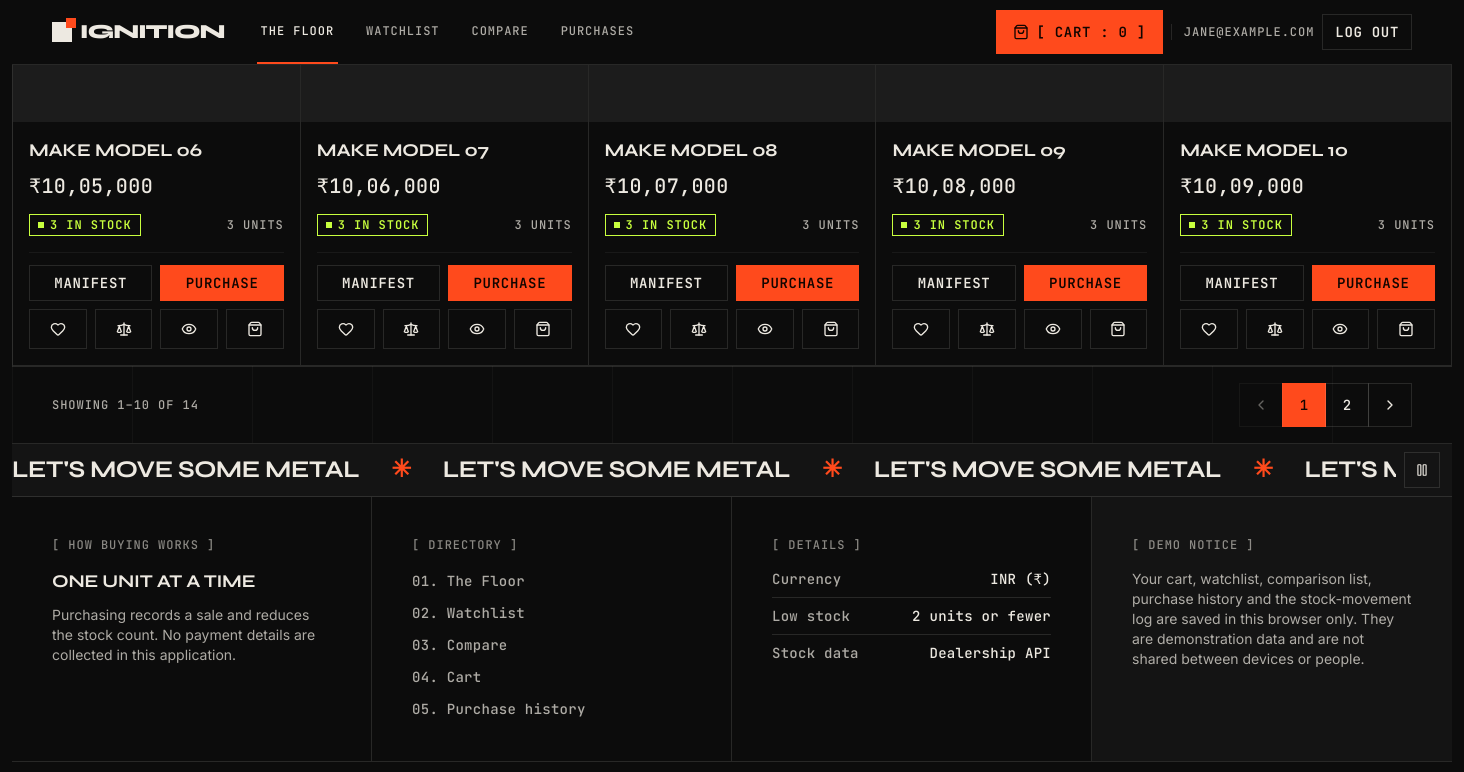
it: The Floor, pagination › shows ten per page with an accurate range and moves between pages
(page scrolled)
Expected: the text "Showing 1–10 of 14" is shown, [52,397,199,413]
Step 1. Click the button named "Page 2" → (1347, 405), box [1325,383,1369,427]
(page scrolled)
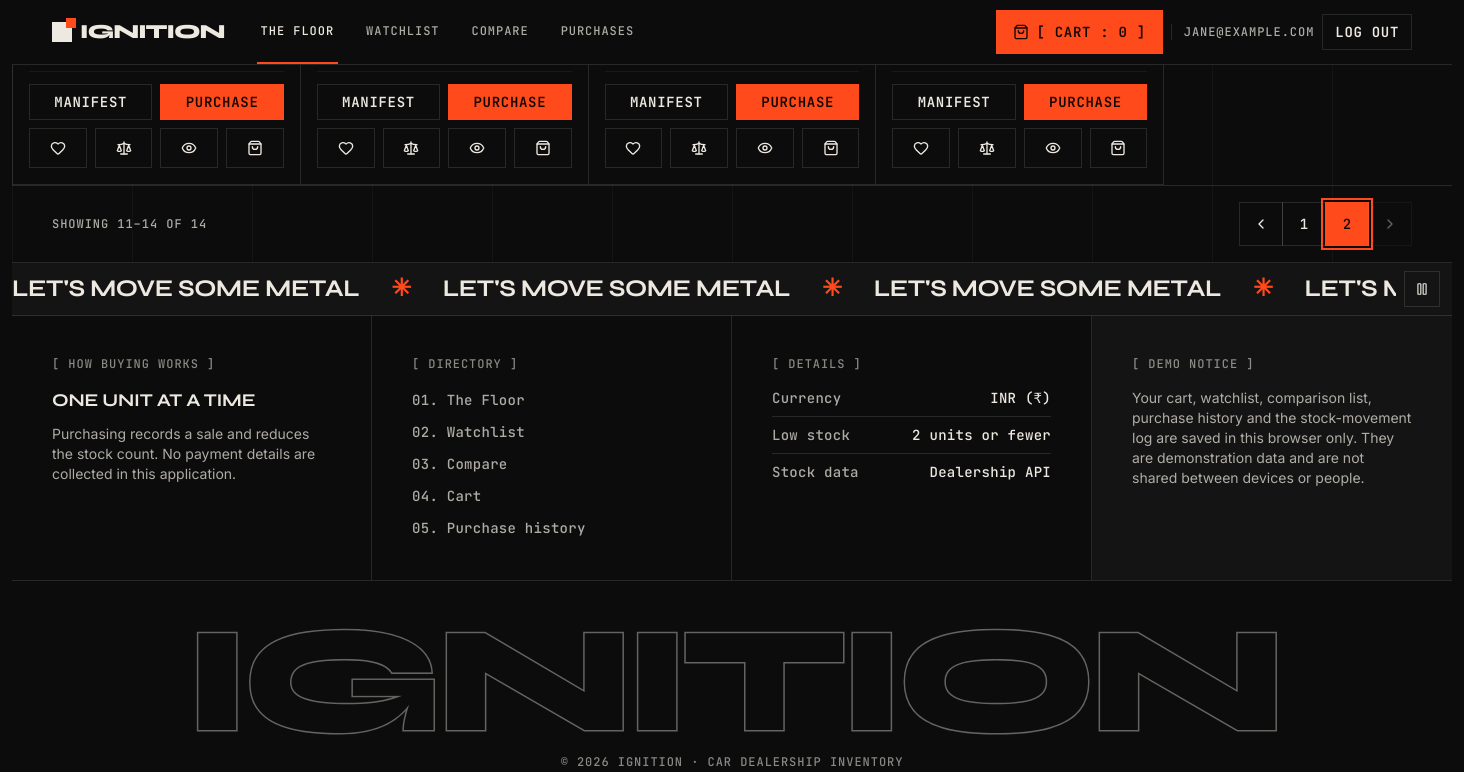
Expected: the text "Showing 11–14 of 14" is shown, [52,216,207,232]
